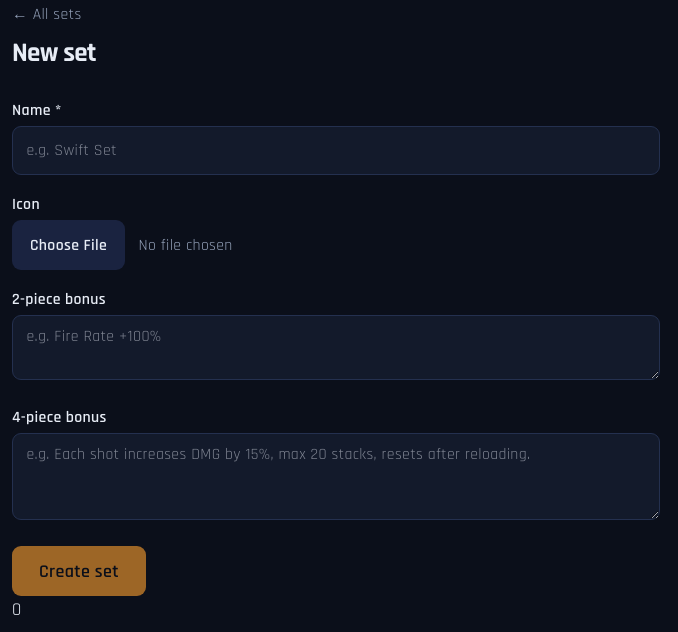
Test case: ArsenalSetFormPage › disables Create until a name is typed
Expected: the button "Create set" is disabled, [12, 546, 146, 596]
Type "Swift Set" into the field labelled "Name *". click: {"x": 336, "y": 151}
box: [12, 126, 660, 176]
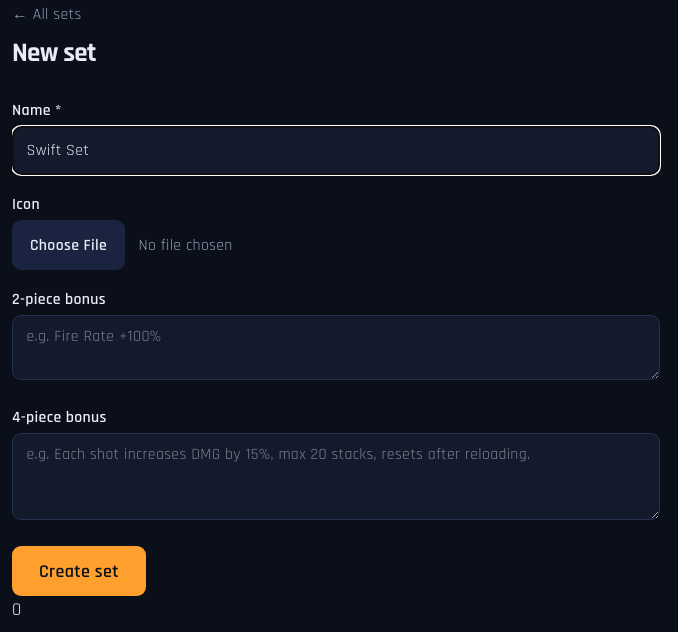
Expected: the button "Create set" is enabled, [12, 546, 146, 596]
